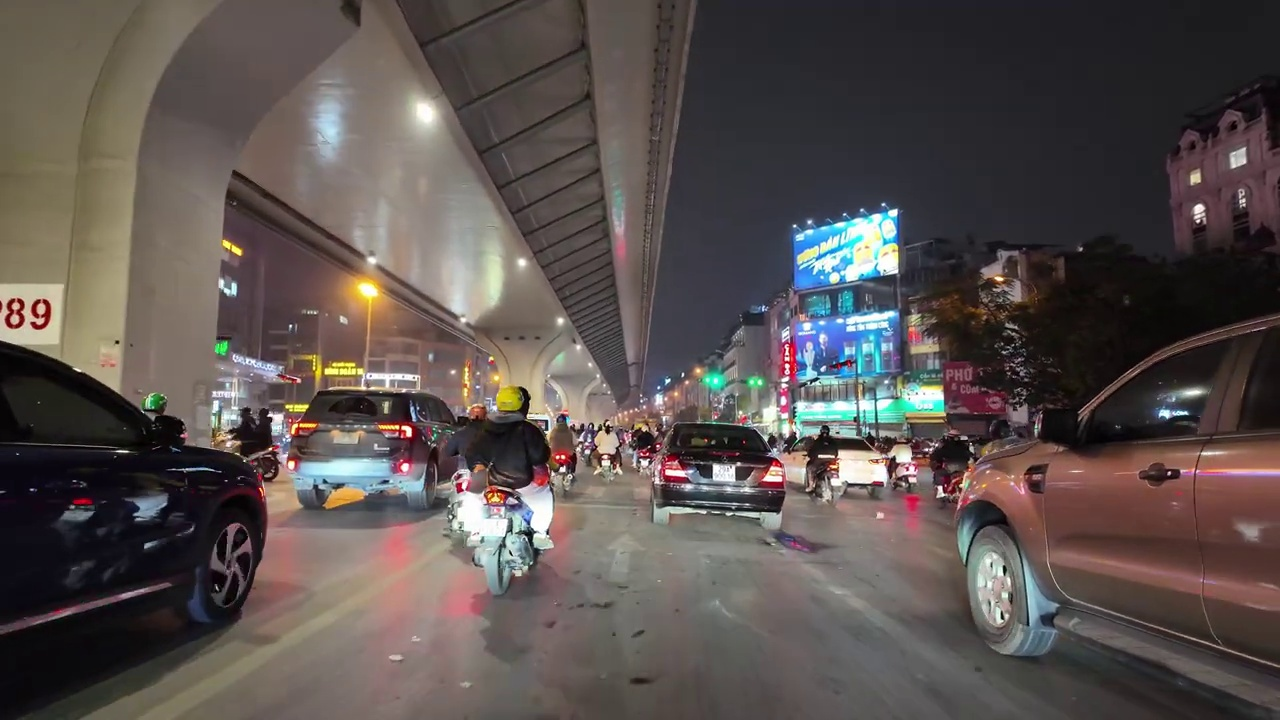acesa: (406, 98, 443, 134), (348, 276, 383, 309)
